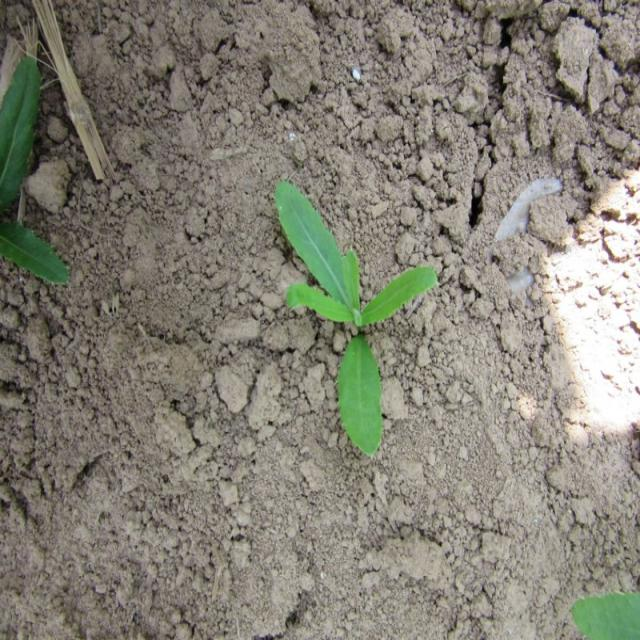field_thistle: (245, 162, 433, 471)
